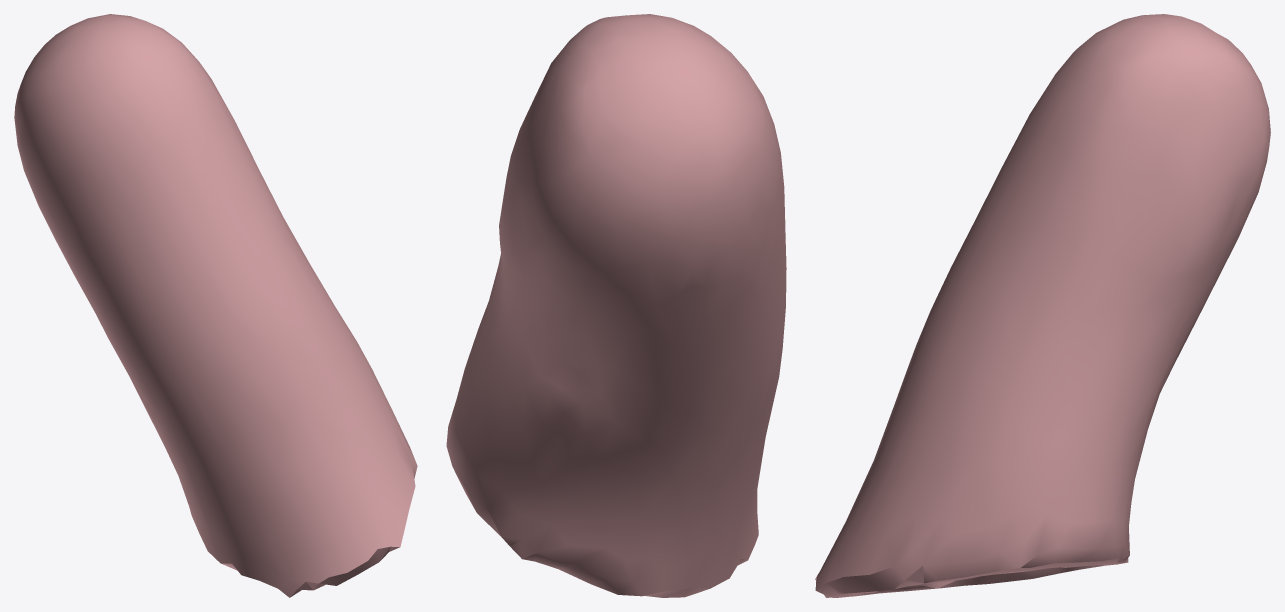
The model's file is fma64178_mm1223m.glb.
3 renders of one model, left to right at view 1: azimuth 30°, elevation 25°; view 2: azimuth 150°, elevation 25°; view 3: azimuth 270°, elevation 25°, orthographic. The views are drawn at different scales.
Parts seen in each view (by area): view 1: FMA64178_MM1223M; view 2: FMA64178_MM1223M; view 3: FMA64178_MM1223M.
Boxes of the visible parts, <box> form: FMA64178_MM1223M: <box>14,14,417,597</box>; FMA64178_MM1223M: <box>446,14,786,597</box>; FMA64178_MM1223M: <box>815,14,1270,597</box>.
Bounding box in the file's own units: 0.00433 × 0.00714 × 0.00541.
